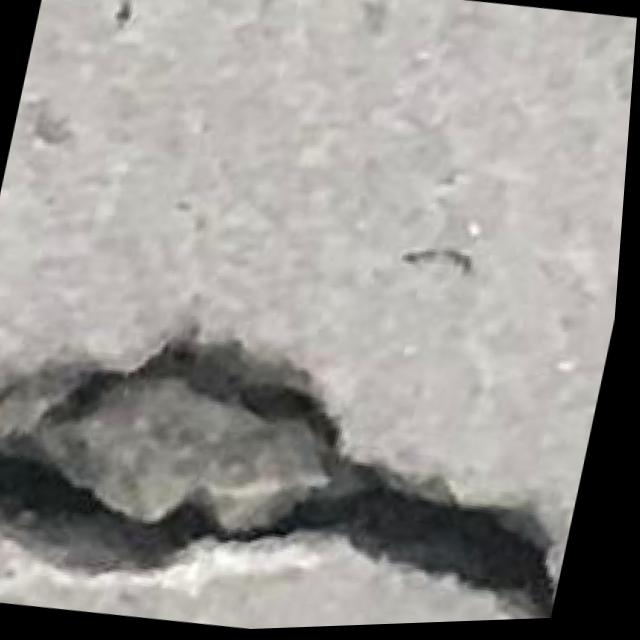Crack: (0, 289, 611, 640)
